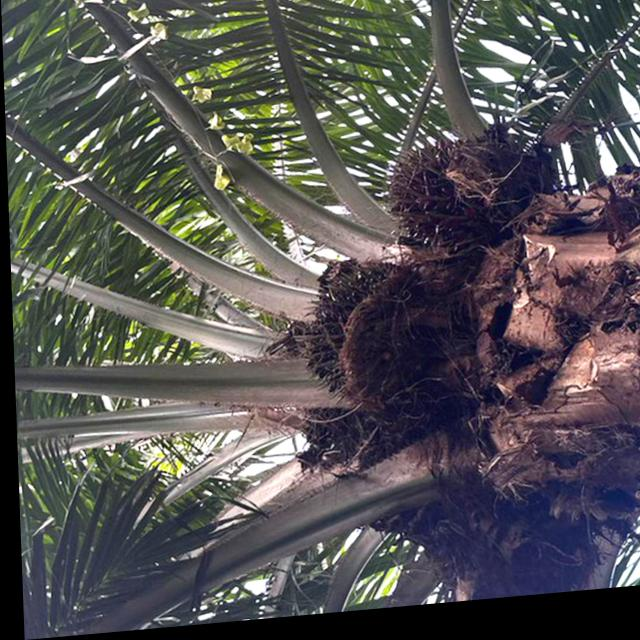unripe: (283, 263, 406, 417)
